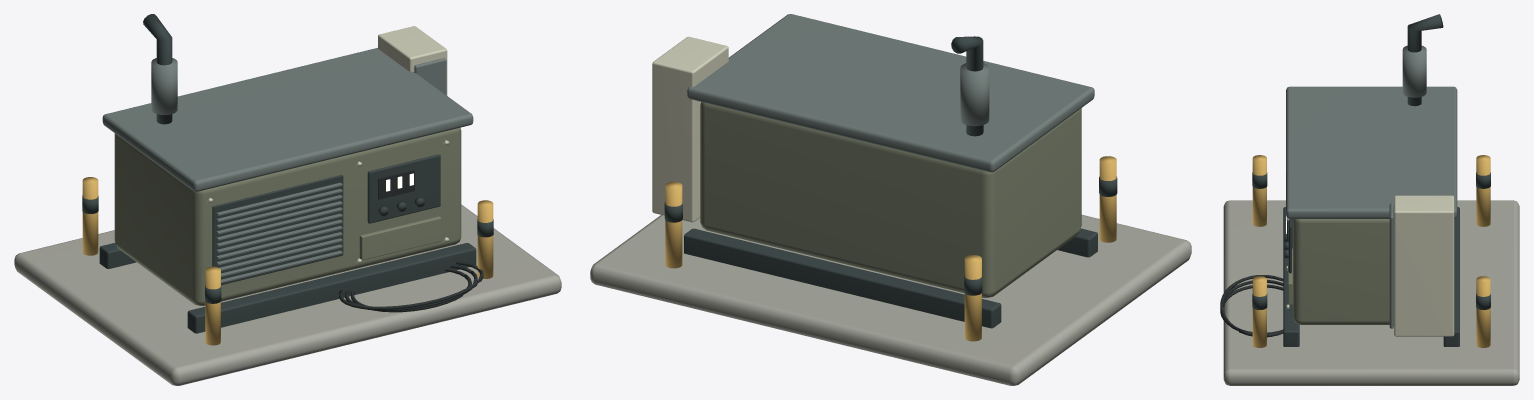
Rendered from diesel_generator.glb.
3 views of the same model, side by side, from view 1: azimuth 30°, elevation 25°; view 2: azimuth 150°, elevation 25°; view 3: azimuth 270°, elevation 25° (orthographic). The views are drawn at different scales.
Visible parts, largest first — view 1: Generator; view 2: Generator; view 3: Generator.
Boxes of the visible parts, box(x1,y1,x2,y2) form: Generator: box(14, 14, 561, 385); Generator: box(590, 14, 1191, 385); Generator: box(1220, 14, 1519, 385).
Size of the model in its own units: 4.3 by 2.8 by 3.14.
